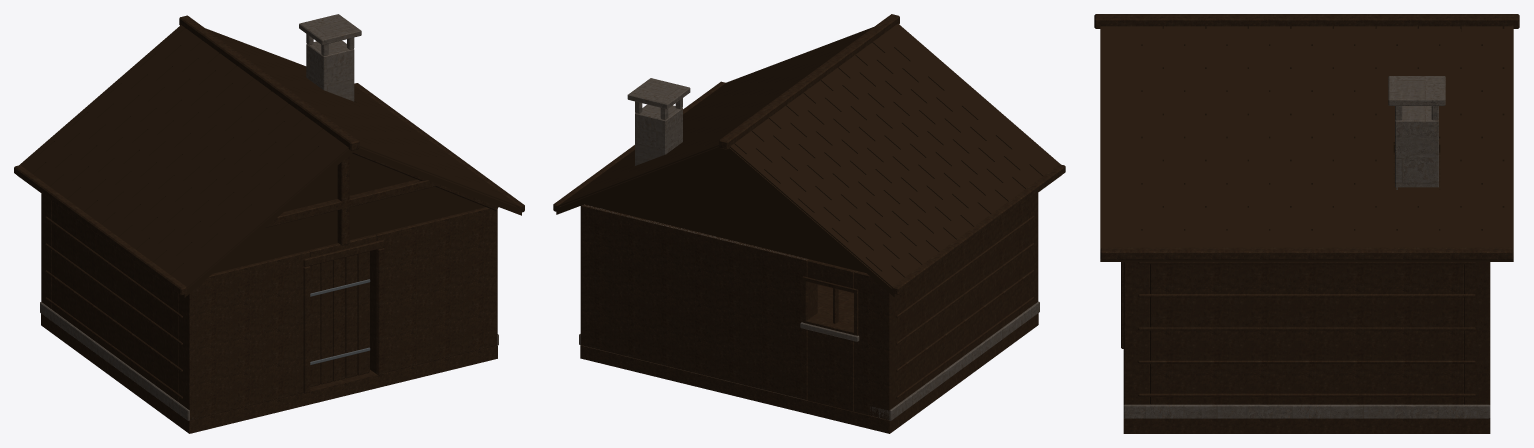
File: s_cottage_6x5.glb
3 renders of one model, left to right at view 1: azimuth 30°, elevation 25°; view 2: azimuth 150°, elevation 25°; view 3: azimuth 270°, elevation 25°, orthographic. The views are drawn at different scales.
Visible parts, largest first — view 1: floor, window ledge, Door plank.004, Door plank.001, Door plank.003, Door plank.002, Door plank; view 2: floor, window ledge; view 3: floor, window ledge.
Boxes of the visible parts, bbox=[...] form: floor: bbox=[14, 15, 524, 433]; window ledge: bbox=[40, 14, 498, 420]; Door plank.004: bbox=[357, 251, 369, 375]; Door plank.001: bbox=[320, 260, 332, 384]; Door plank.003: bbox=[345, 254, 357, 378]; Door plank.002: bbox=[333, 257, 345, 381]; Door plank: bbox=[310, 263, 320, 386]; floor: bbox=[553, 14, 1065, 433]; window ledge: bbox=[579, 78, 1039, 420]; floor: bbox=[1094, 14, 1519, 433]; window ledge: bbox=[1123, 76, 1490, 418].
Size of what is drawn, in the model's own units: 6.7 by 4.89 by 5.8.
5 materials, 2 textured.
